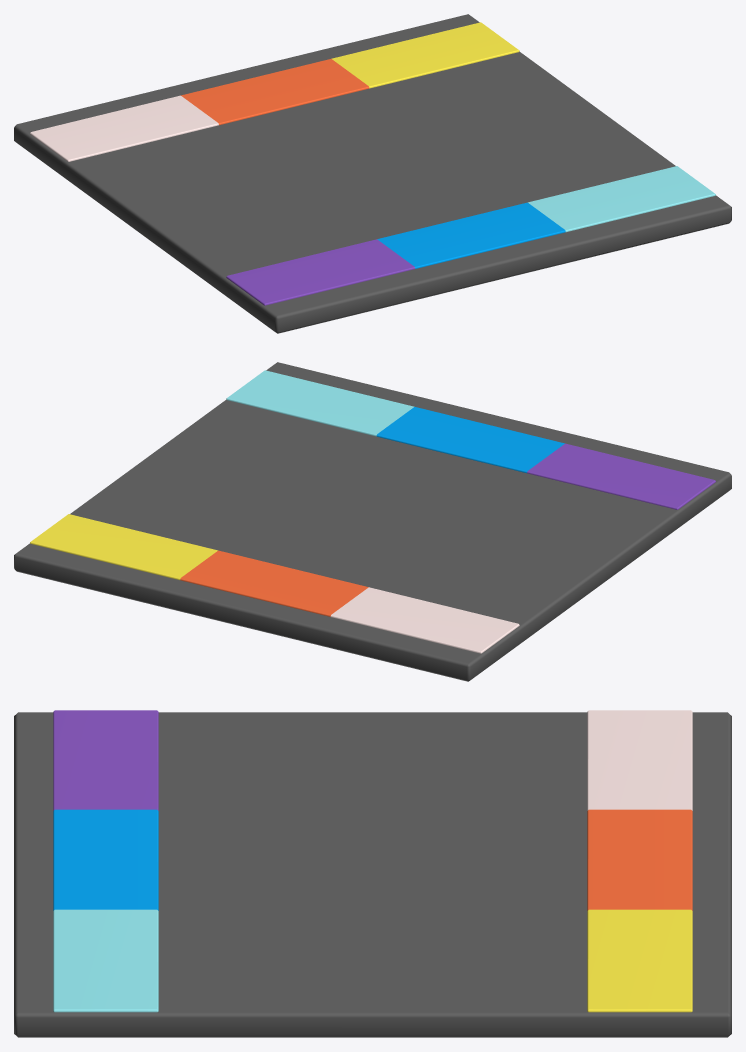
File: Store_13_Vinyl_Box_5.glb
3 renders of one model, top to bottom at view 1: azimuth 30°, elevation 25°; view 2: azimuth 150°, elevation 25°; view 3: azimuth 270°, elevation 25°, orthographic. The views are drawn at different scales.
Visible parts, largest first — view 1: Store_13_Vinyl_Box_5; view 2: Store_13_Vinyl_Box_5; view 3: Store_13_Vinyl_Box_5.
Part boxes in pixels (left/top/right/bottom): Store_13_Vinyl_Box_5: left=14, top=14, right=731, bottom=333; Store_13_Vinyl_Box_5: left=14, top=362, right=731, bottom=681; Store_13_Vinyl_Box_5: left=14, top=710, right=731, bottom=1037.
Bounding box in the file's own units: 0.434 × 0.0186 × 0.434.
1 material, 1 textured.
